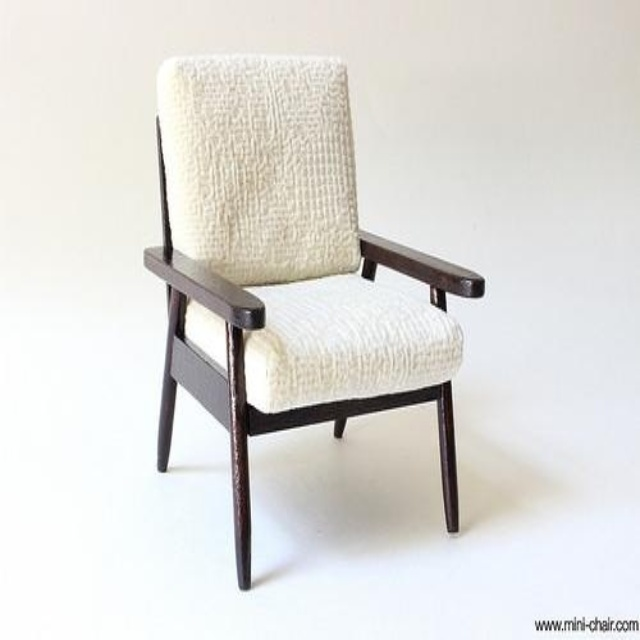obstacle: (145, 56, 483, 588)
